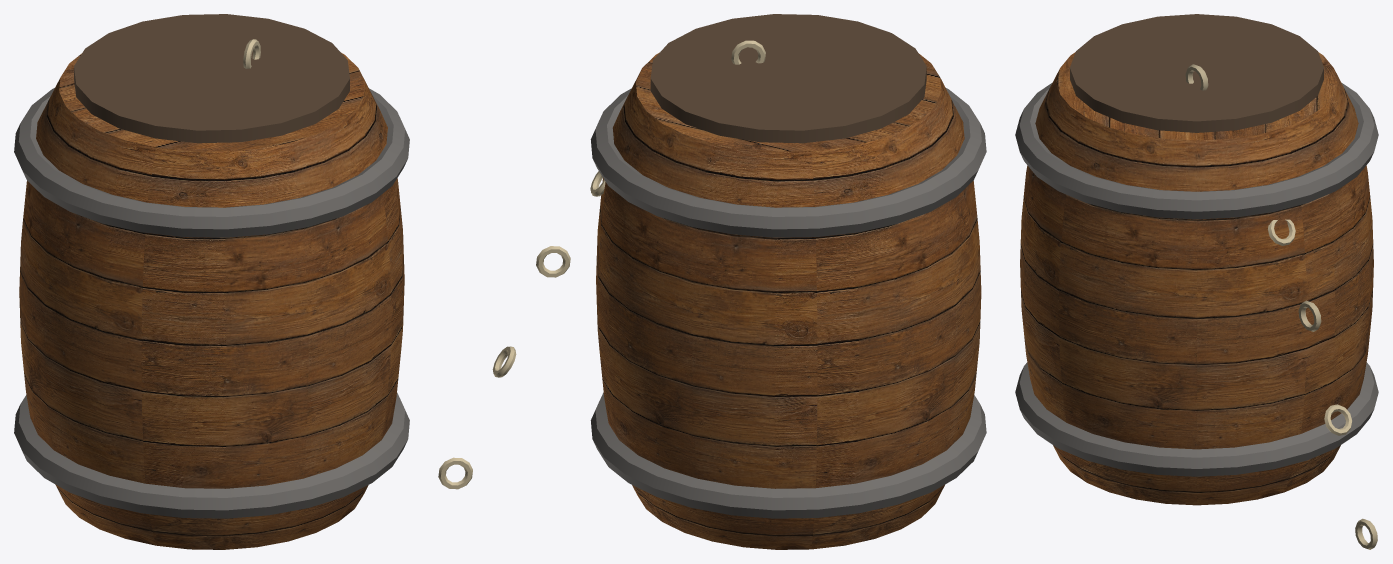
File: powder-barrel-v01.glb
The picture shows the model from 3 angles, left to right: view 1: azimuth 30°, elevation 25°; view 2: azimuth 150°, elevation 25°; view 3: azimuth 270°, elevation 25°; orthographic projection. The views are drawn at different scales.
Parts seen in each view (by area): view 1: powder-barrel; view 2: powder-barrel; view 3: powder-barrel.
Part boxes in pixels (x1,y1,x2,y2): powder-barrel: (14,14,409,549); powder-barrel: (438,14,986,549); powder-barrel: (1015,14,1378,549).
Bounding box in the file's own units: 1.06 × 1.04 × 0.8579.
Materials: 4 (2 with a texture image).
